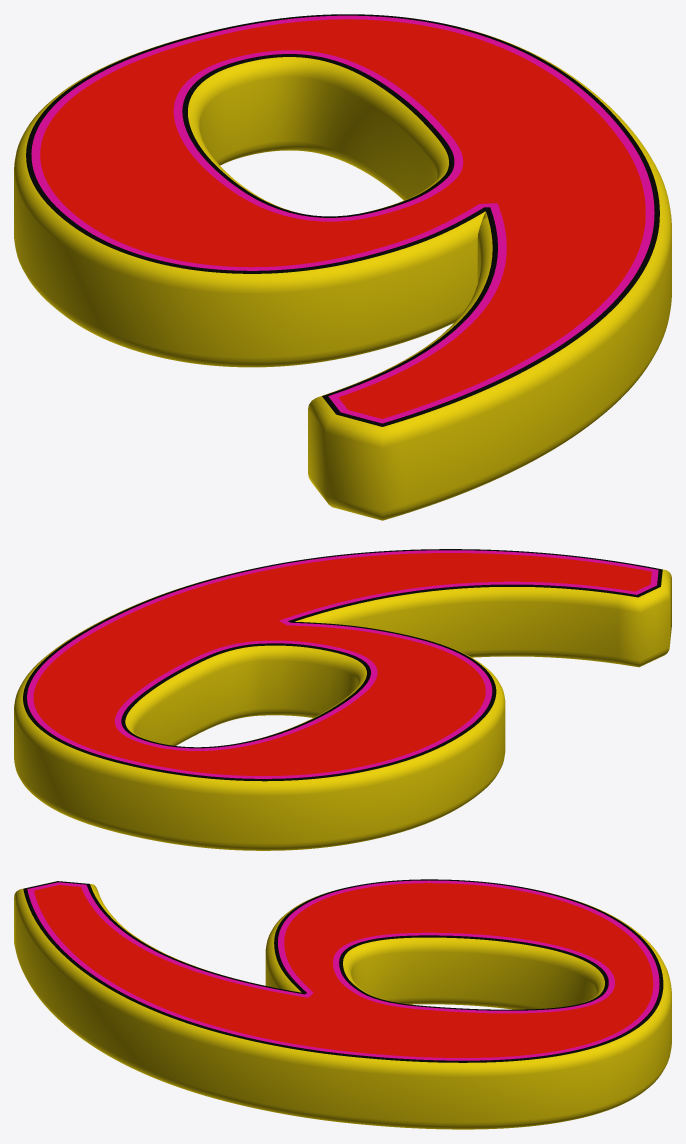
Rendered from Slot_Numbers_Nine.fbx.
3 renders of one model, top to bottom at view 1: azimuth 30°, elevation 25°; view 2: azimuth 150°, elevation 25°; view 3: azimuth 270°, elevation 25°, orthographic. The views are drawn at different scales.
Parts seen in each view (by area): view 1: Nine; view 2: Nine; view 3: Nine.
Part boxes in pixels (x1,y1,x2,y2): Nine: (14,14,671,520); Nine: (14,549,671,850); Nine: (14,879,671,1129).
Bounding box in the file's own units: 36.18 × 6 × 52.75.
